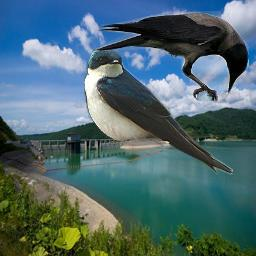Crow: (93, 11, 249, 101)
Swallow: (84, 47, 233, 175)
